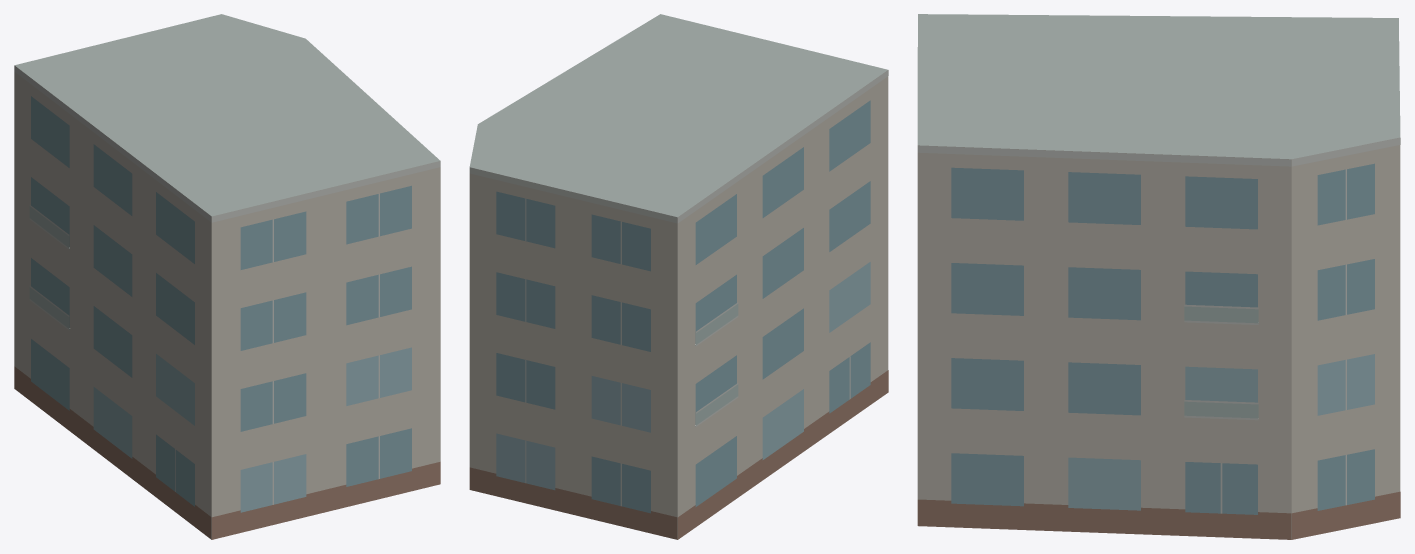
File: survey-upis-32812429.glb
3 views of the same model, side by side, from view 1: azimuth 30°, elevation 25°; view 2: azimuth 150°, elevation 25°; view 3: azimuth 270°, elevation 25° (orthographic). The views are drawn at different scales.
Visible parts, largest first — view 1: survey-upis-32812429.tmp; view 2: survey-upis-32812429.tmp; view 3: survey-upis-32812429.tmp.
Part boxes in pixels (x1,y1,x2,y2): survey-upis-32812429.tmp: (14, 14, 440, 539); survey-upis-32812429.tmp: (469, 14, 888, 539); survey-upis-32812429.tmp: (917, 14, 1400, 539).
Size of the model in its own units: 10.3 by 12.58 by 14.48.
